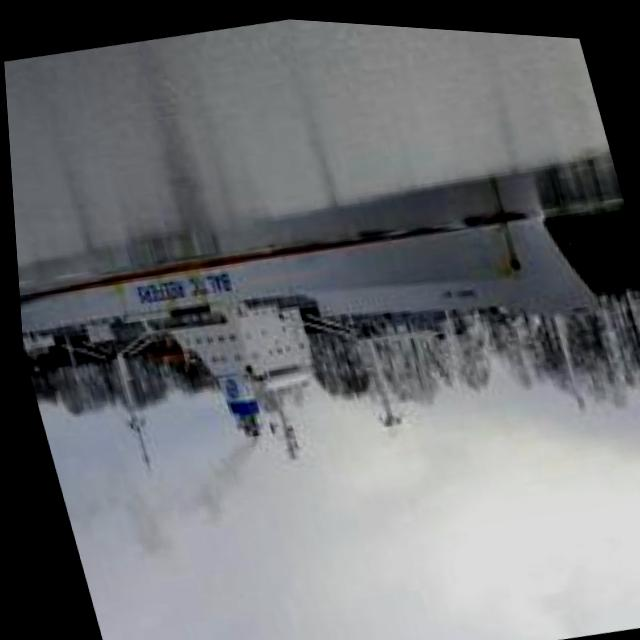ship2: (16, 210, 588, 501)
